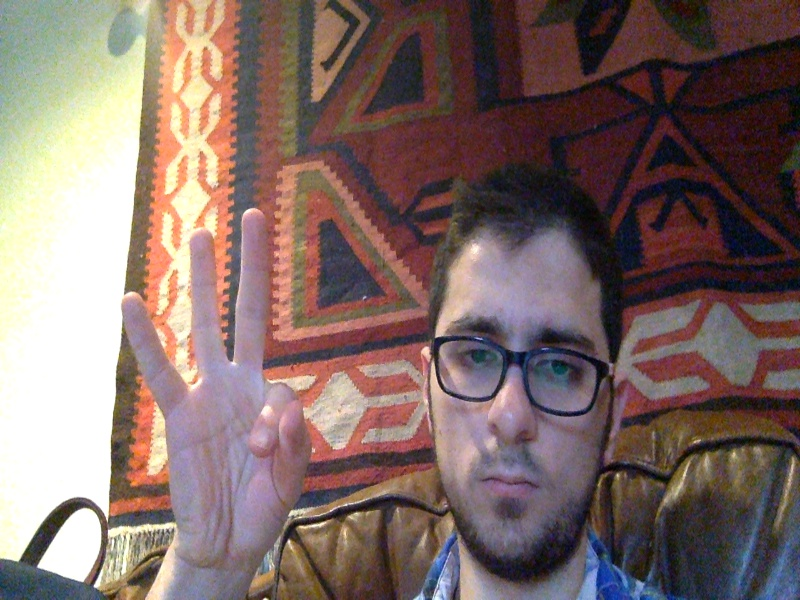3-hand: (121, 209, 308, 569)
